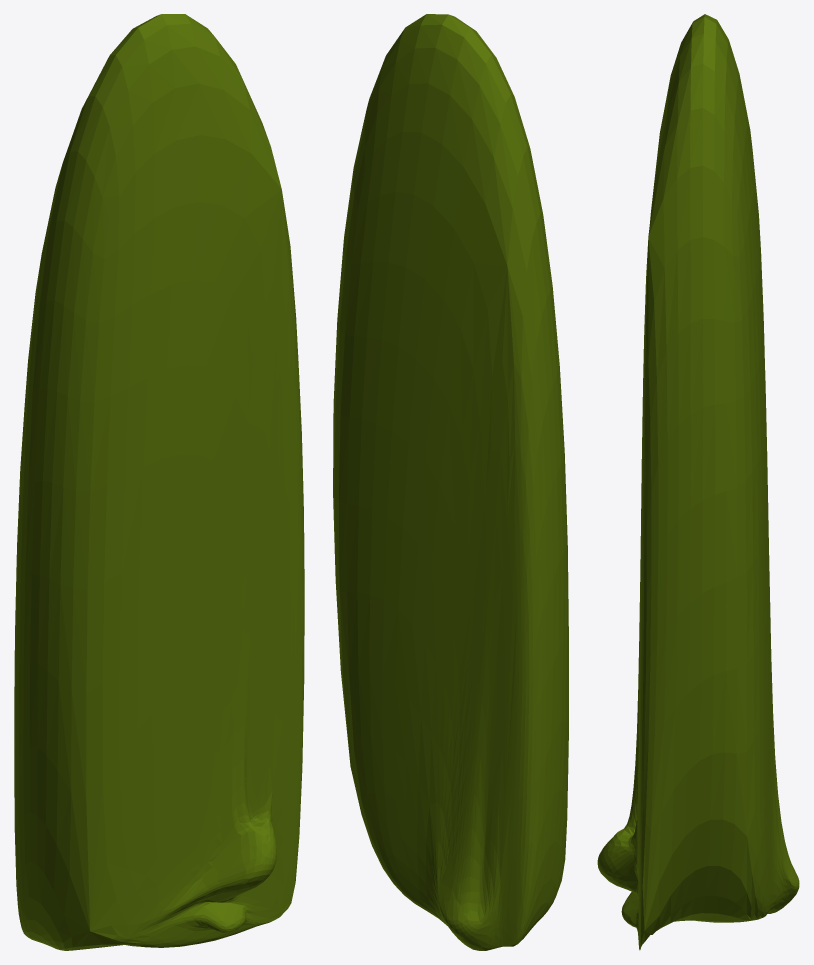
The picture shows the model from 3 angles, left to right: view 1: azimuth 30°, elevation 25°; view 2: azimuth 150°, elevation 25°; view 3: azimuth 270°, elevation 25°; orthographic projection. The views are drawn at different scales.
Parts seen in each view (by area): view 1: 829_Cube.3342; view 2: 829_Cube.3342; view 3: 829_Cube.3342.
Boxes of the visible parts, left/top/right/bottom form: 829_Cube.3342: left=14, top=14, right=304, bottom=950; 829_Cube.3342: left=333, top=14, right=568, bottom=950; 829_Cube.3342: left=597, top=14, right=799, bottom=950.
Bounding box in the file's own units: 3.08 × 11.32 × 2.24.
